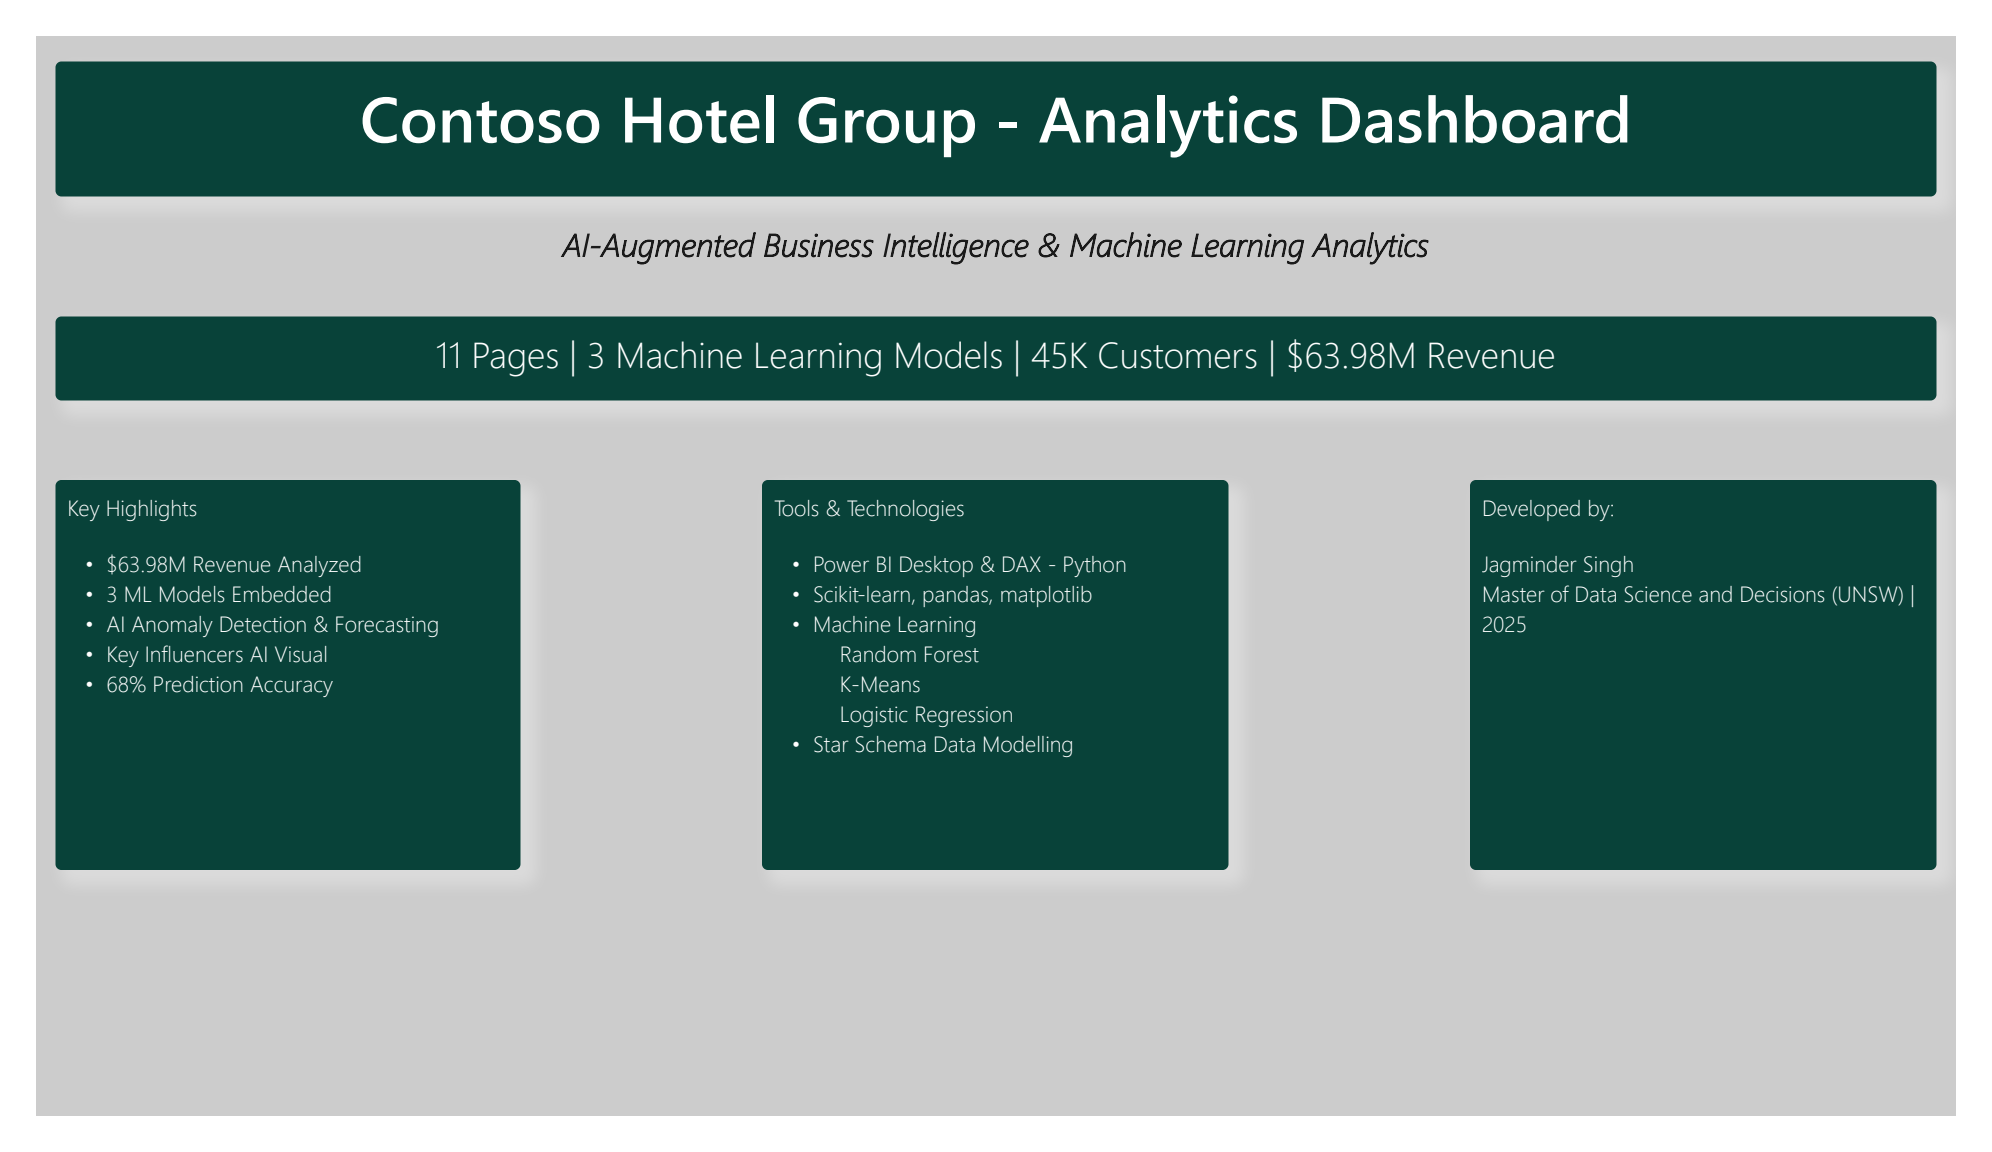

Layout of this report page (visuals, bound fields, positions):
{"tool":"powerbi","page":{"name":"Home","canvas":[1280,720],"ordinal":0},"visuals":[{"type":"textbox","box":[12.6,17.1,1254.2,89.8],"z":0},{"type":"textbox","box":[12.6,119.4,1254.2,47.6],"z":1000},{"type":"textbox","box":[12.6,186.7,1254.2,56.6],"z":2000},{"type":"textbox","box":[12.6,296.3,310.6,259.5],"z":3000},{"type":"textbox","box":[484.3,296.3,310.6,259.5],"z":4000},{"type":"textbox","box":[956.1,296.3,310.6,259.5],"z":5000}]}

Visuals, with their boxes in screenshot pixels (x1, y1, x2, y2), scaled from the page's 1280x720 canvas onto the 1992x1152 screenshot:
textbox: (left=20, top=27, right=1971, bottom=171)
textbox: (left=20, top=191, right=1971, bottom=267)
textbox: (left=20, top=299, right=1971, bottom=389)
textbox: (left=20, top=474, right=503, bottom=889)
textbox: (left=754, top=474, right=1237, bottom=889)
textbox: (left=1488, top=474, right=1971, bottom=889)
